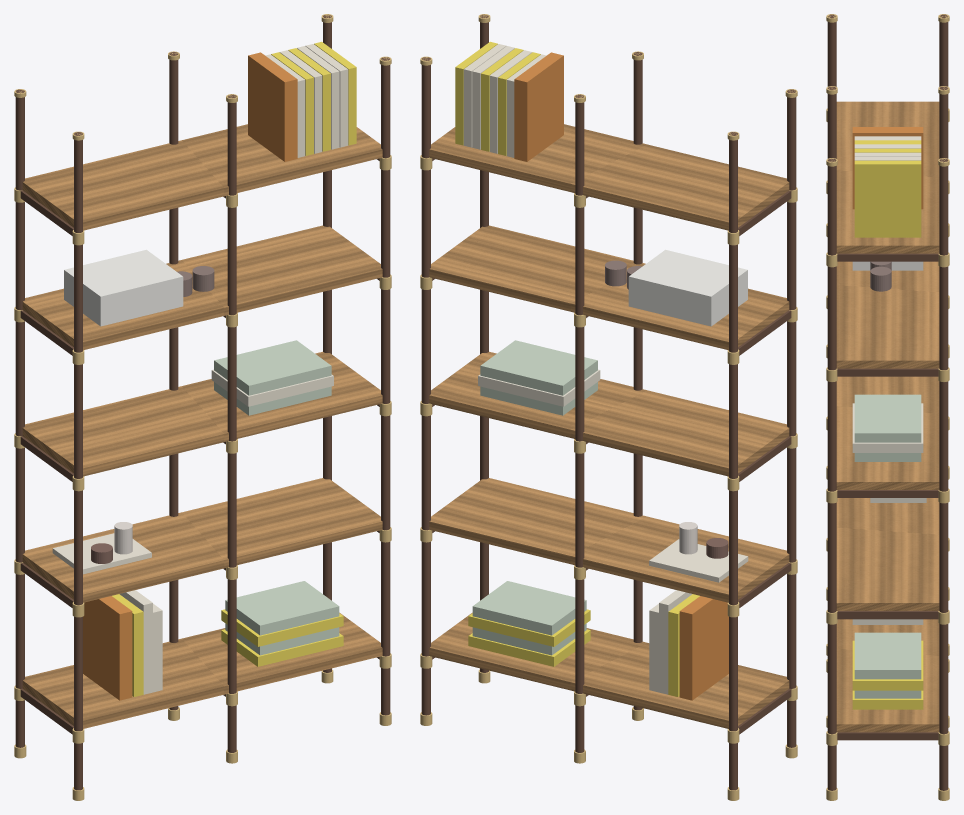
The model's file is biblioteca_recoleta.glb.
The picture shows the model from 3 angles, left to right: view 1: azimuth 30°, elevation 25°; view 2: azimuth 150°, elevation 25°; view 3: azimuth 270°, elevation 25°; orthographic projection. The views are drawn at different scales.
Visible parts, largest first — view 1: Estantes_roble, Postes_acero, Libros_1, Libros_5, Revistas_4, Libros_3, Herrajes_laton, Mensulas_acero, Objetos_2, Objetos_4; view 2: Estantes_roble, Postes_acero, Libros_1, Libros_5, Revistas_4, Libros_3, Herrajes_laton, Objetos_2, Mensulas_acero; view 3: Estantes_roble, Postes_acero, Libros_5, Libros_1, Libros_3, Mensulas_acero, Herrajes_laton, Objetos_4, Revistas_4, Objetos_2.
Boxes of the visible parts, left/top/right/bottom form: Estantes_roble: left=22, top=124, right=382, bottom=728; Postes_acero: left=15, top=14, right=390, bottom=790; Libros_1: left=83, top=581, right=343, bottom=700; Libros_5: left=248, top=41, right=356, bottom=161; Revistas_4: left=64, top=249, right=183, bottom=326; Libros_3: left=211, top=340, right=333, bottom=415; Herrajes_laton: left=14, top=14, right=391, bottom=800; Mensulas_acero: left=20, top=158, right=379, bottom=734; Objetos_2: left=52, top=522, right=151, bottom=574; Objetos_4: left=177, top=266, right=214, bottom=296; Estantes_roble: left=429, top=124, right=789, bottom=728; Postes_acero: left=421, top=14, right=796, bottom=790; Libros_1: left=468, top=581, right=728, bottom=700; Libros_5: left=455, top=41, right=563, bottom=161; Revistas_4: left=628, top=249, right=747, bottom=326; Libros_3: left=478, top=340, right=600, bottom=415; Herrajes_laton: left=420, top=14, right=797, bottom=800; Objetos_2: left=649, top=522, right=748, bottom=582; Mensulas_acero: left=432, top=158, right=791, bottom=734; Estantes_roble: left=836, top=101, right=939, bottom=732; Postes_acero: left=827, top=14, right=948, bottom=790; Libros_5: left=852, top=127, right=923, bottom=237; Libros_1: left=852, top=619, right=923, bottom=709; Libros_3: left=852, top=394, right=923, bottom=461; Mensulas_acero: left=836, top=253, right=939, bottom=740; Herrajes_laton: left=826, top=14, right=949, bottom=800; Objetos_4: left=870, top=261, right=891, bottom=291; Revistas_4: left=852, top=261, right=923, bottom=270; Objetos_2: left=870, top=498, right=926, bottom=502.
Bounding box in the file's own units: 1 × 2 × 0.35.
Materials: 9 (5 with a texture image).
